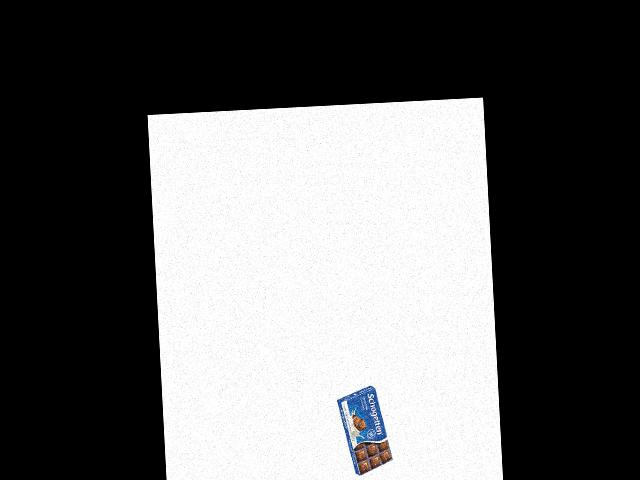chocolate: (343, 382, 393, 477)
